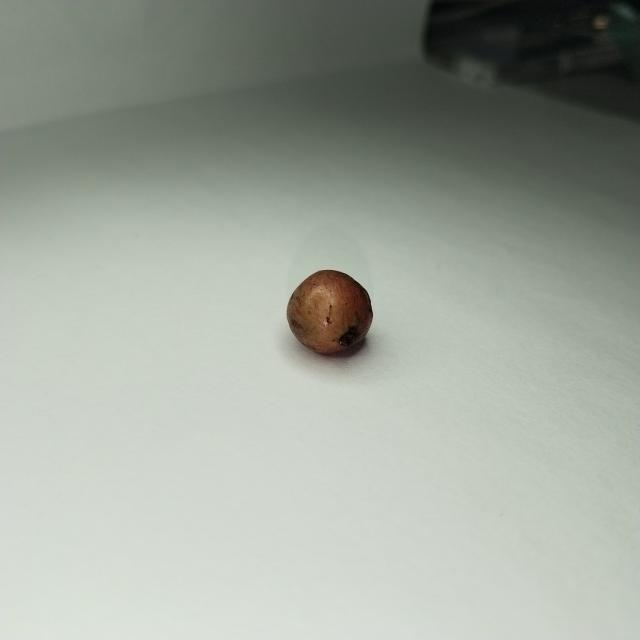Infectado: (289, 270, 374, 357)
